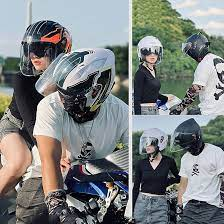helmets: (39, 47, 121, 124), (19, 18, 78, 69), (171, 120, 205, 155), (135, 125, 169, 157), (134, 34, 164, 68), (178, 32, 210, 60)
